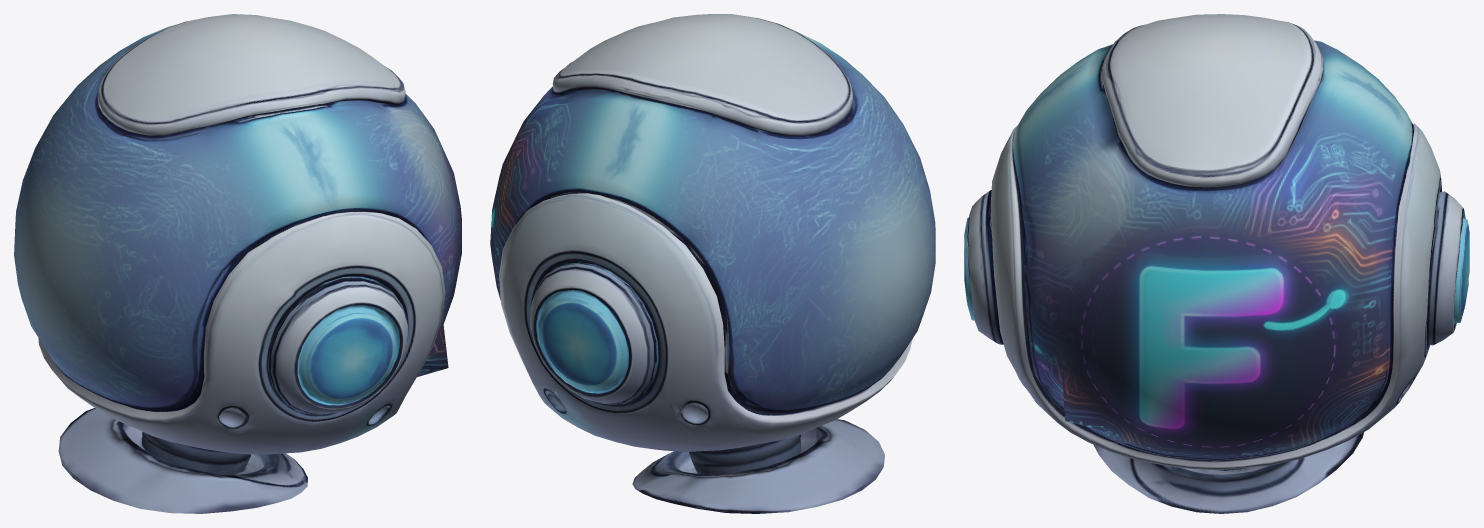
File: mr_flow.glb
The picture shows the model from 3 angles, left to right: view 1: azimuth 30°, elevation 25°; view 2: azimuth 150°, elevation 25°; view 3: azimuth 270°, elevation 25°; orthographic projection. The views are drawn at different scales.
Parts seen in each view (by area): view 1: tripo_node_e871f7b5-8ccc-4c80-8147-9658b817fdf4; view 2: tripo_node_e871f7b5-8ccc-4c80-8147-9658b817fdf4; view 3: tripo_node_e871f7b5-8ccc-4c80-8147-9658b817fdf4.
Part boxes in pixels (bbox=[...]): tripo_node_e871f7b5-8ccc-4c80-8147-9658b817fdf4: bbox=[14, 14, 461, 513]; tripo_node_e871f7b5-8ccc-4c80-8147-9658b817fdf4: bbox=[490, 14, 935, 513]; tripo_node_e871f7b5-8ccc-4c80-8147-9658b817fdf4: bbox=[964, 14, 1469, 513].
Size of the model in its own units: 0.9082 by 0.9785 by 0.998.
Materials: 1 (1 with a texture image).
